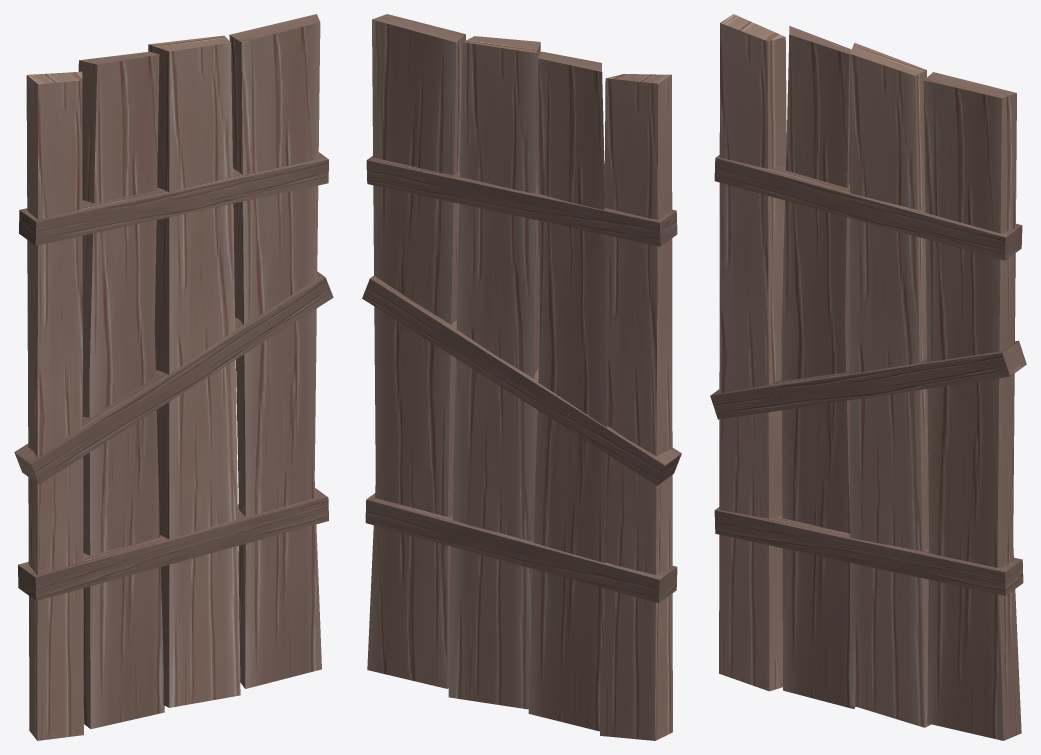
Rendered from House_Door.fbx.
The picture shows the model from 3 angles, left to right: view 1: azimuth 30°, elevation 25°; view 2: azimuth 150°, elevation 25°; view 3: azimuth 330°, elevation 25°; orthographic projection.
Visible parts, largest first — view 1: Door; view 2: Door; view 3: Door.
Boxes of the visible parts, <box> form: Door: <box>14,14,333,740</box>; Door: <box>362,14,681,740</box>; Door: <box>710,14,1026,740</box>.
Size of the model in its own units: 107 by 225 by 10.97.
